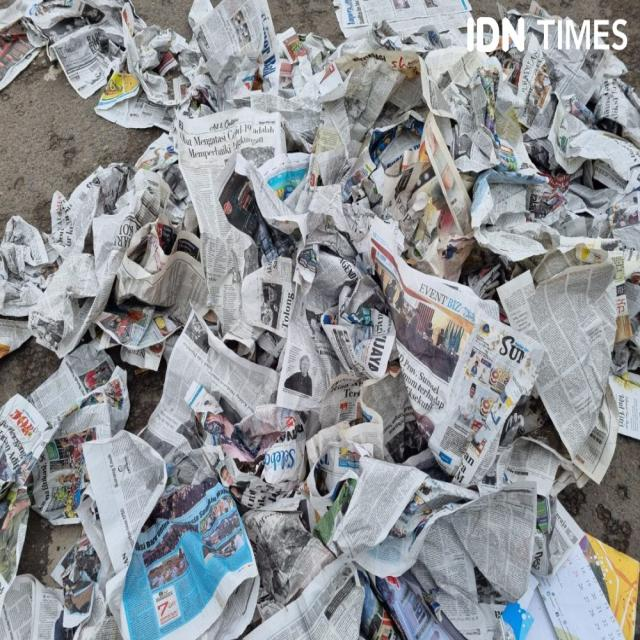Kertas: (146, 62, 630, 614), (25, 147, 316, 640), (328, 218, 542, 449), (366, 460, 580, 634), (168, 92, 318, 330), (173, 322, 314, 507)
